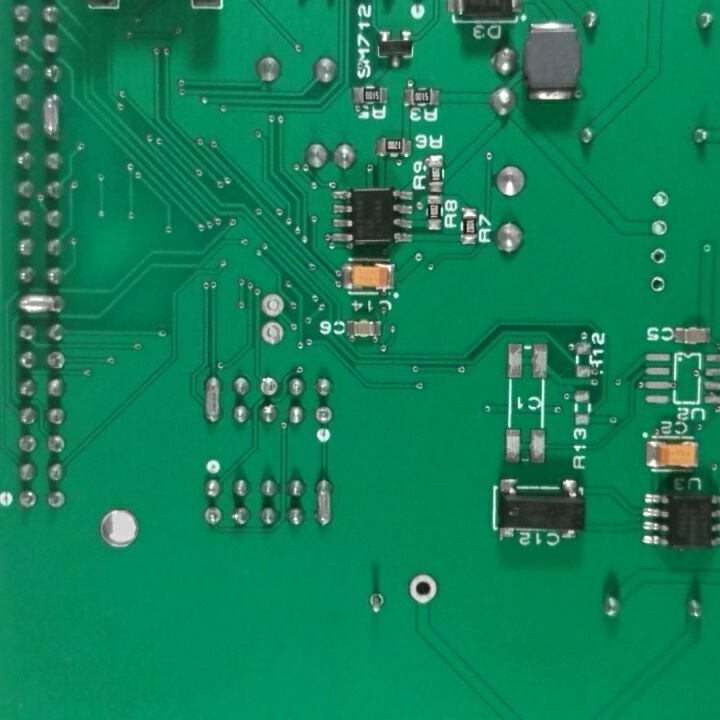F: (404, 572, 441, 609), (259, 292, 290, 321), (254, 322, 288, 348), (364, 589, 387, 618), (201, 504, 227, 529), (13, 489, 41, 511), (644, 244, 670, 267), (44, 350, 68, 373), (313, 406, 335, 428), (259, 377, 281, 399), (649, 215, 670, 238), (16, 435, 39, 455), (647, 275, 668, 296), (650, 189, 672, 208)
P: (198, 375, 227, 427), (40, 95, 64, 147), (313, 475, 335, 530), (15, 293, 66, 316)
